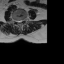CCS_severe_stenosis: (19, 18, 20, 24)
LFS_stenosis: (22, 18, 24, 22)
LLS_normal: (20, 18, 22, 23)
RFS_normal: (15, 18, 17, 23)
RLS_normal: (17, 19, 19, 23)
